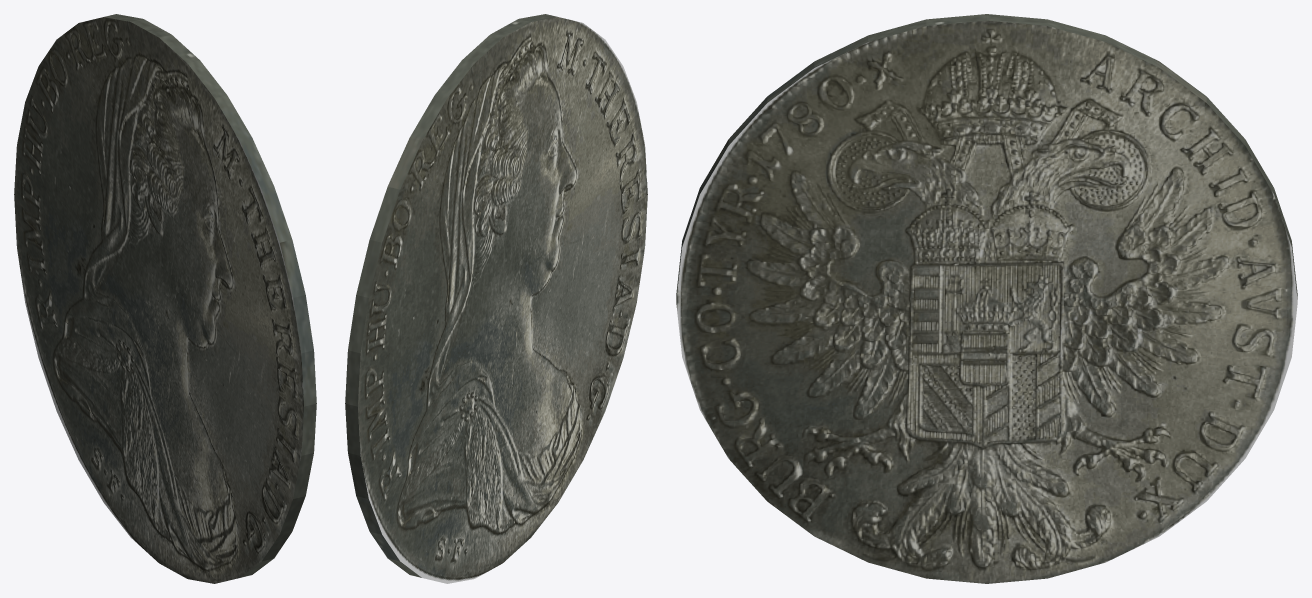
The model's file is coin.glb.
3 views of the same model, side by side, from view 1: azimuth 30°, elevation 25°; view 2: azimuth 150°, elevation 25°; view 3: azimuth 270°, elevation 25° (orthographic). The views are drawn at different scales.
Visible parts, largest first — view 1: coin; view 2: coin; view 3: coin.
Part boxes in pixels (bbox=[...]): coin: bbox=[14, 14, 316, 583]; coin: bbox=[345, 14, 647, 583]; coin: bbox=[676, 14, 1297, 583].
Bounding box in the file's own units: 0.0352 × 1.39 × 1.39.
1 material, 1 textured.
